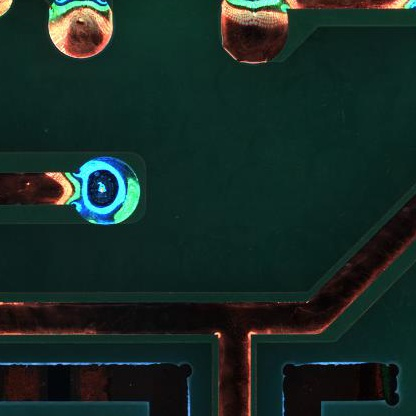spot: (73, 154, 143, 226)
